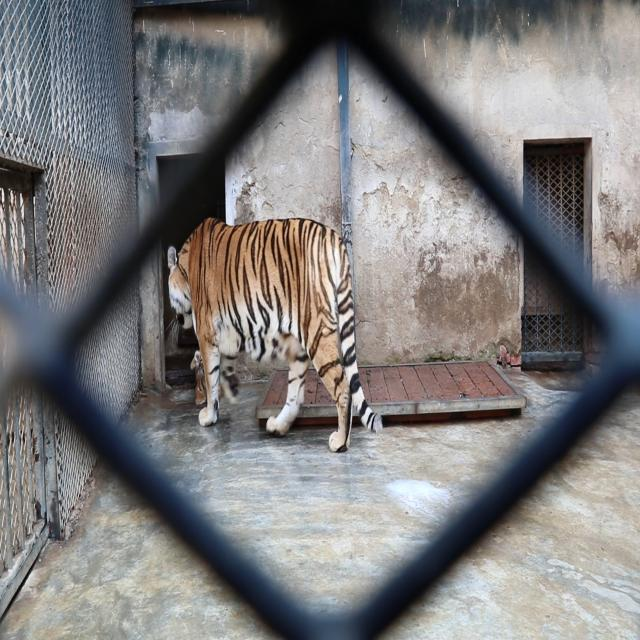Tiger: (157, 189, 383, 463)
